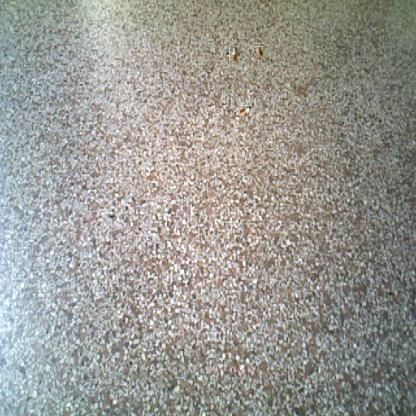dirty: (228, 49, 240, 62), (238, 105, 252, 116), (255, 47, 264, 57)
